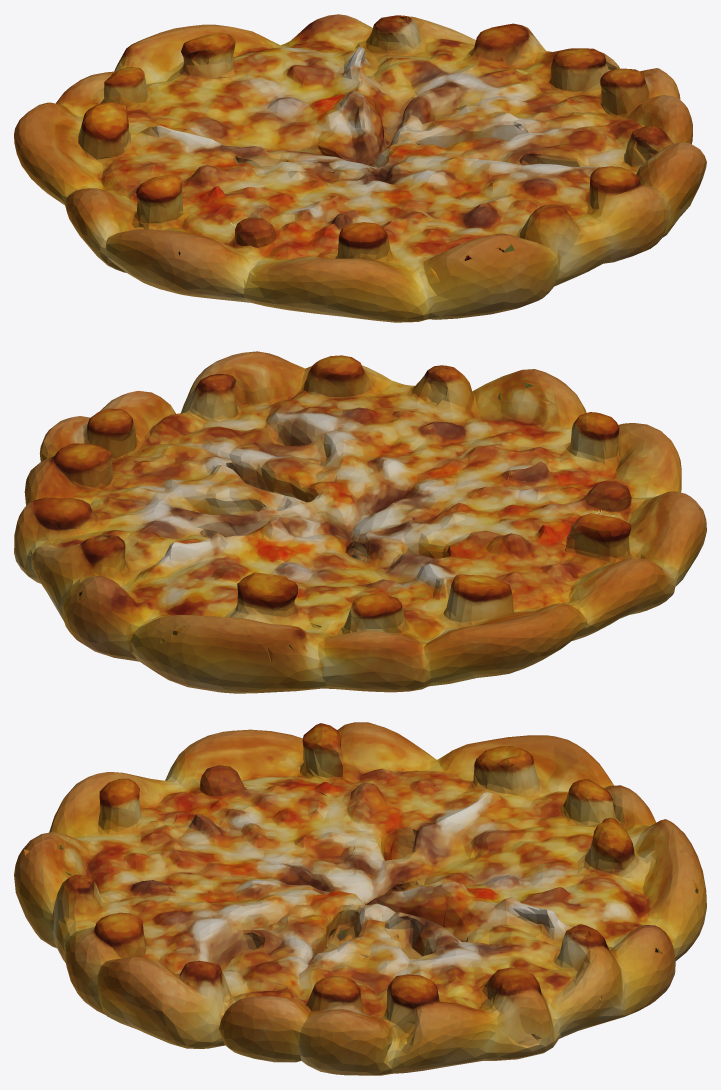
The model's file is bbq chicken-x.glb.
3 renders of one model, top to bottom at view 1: azimuth 30°, elevation 25°; view 2: azimuth 150°, elevation 25°; view 3: azimuth 270°, elevation 25°, orthographic. The views are drawn at different scales.
Visible parts, largest first — view 1: world; view 2: world; view 3: world.
Boxes of the visible parts, x1,y1,x2,y2 form: world: (14, 14, 706, 322); world: (14, 351, 706, 693); world: (14, 722, 706, 1075).
Bounding box in the file's own units: 0.4064 × 0.063 × 0.3952.
1 material, 1 textured.
